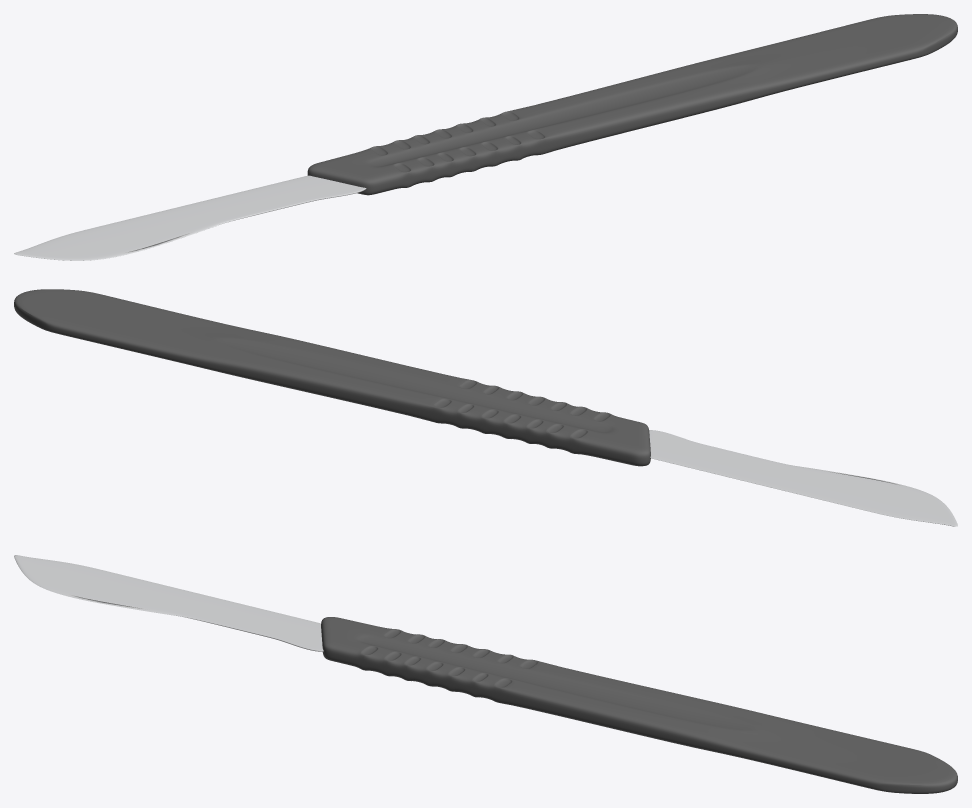
Rendered from Scalpel.glb.
The picture shows the model from 3 angles, top to bottom: view 1: azimuth 30°, elevation 25°; view 2: azimuth 150°, elevation 25°; view 3: azimuth 330°, elevation 25°; orthographic projection.
Visible parts, largest first — view 1: Replaceable Scalpel; view 2: Replaceable Scalpel; view 3: Replaceable Scalpel.
Part boxes in pixels (left/top/right/bottom): Replaceable Scalpel: left=14, top=14, right=957, bottom=260; Replaceable Scalpel: left=14, top=289, right=957, bottom=526; Replaceable Scalpel: left=14, top=555, right=957, bottom=793.
Bounding box in the file's own units: 0.1298 × 0.00209 × 0.0125.
Materials: 1 (1 with a texture image).
